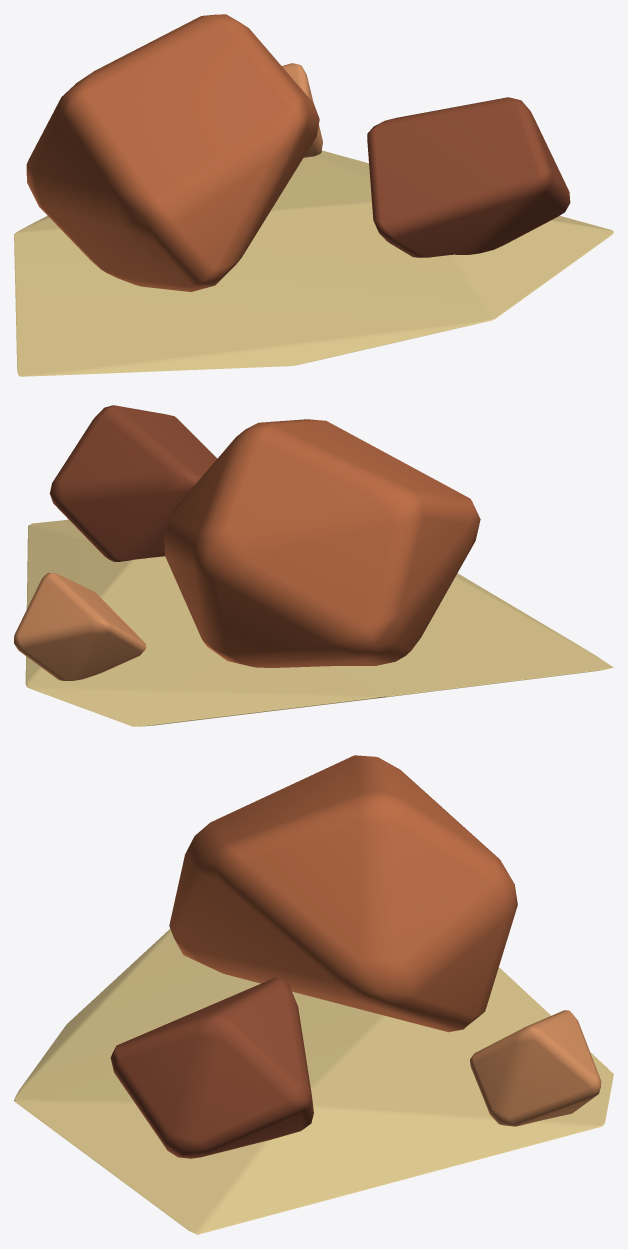
The model's file is rocher_desert_3.glb.
3 renders of one model, top to bottom at view 1: azimuth 30°, elevation 25°; view 2: azimuth 150°, elevation 25°; view 3: azimuth 270°, elevation 25°, orthographic. The views are drawn at different scales.
Parts seen in each view (by area): view 1: roche_sable.002, roche_gres.006, roche_gres_sombre.006, roche_gres_clair.006; view 2: roche_gres.006, roche_sable.002, roche_gres_sombre.006, roche_gres_clair.006; view 3: roche_sable.002, roche_gres.006, roche_gres_sombre.006, roche_gres_clair.006.
Part boxes in pixels (left/top/right/bottom): roche_sable.002: left=14, top=150, right=613, bottom=376; roche_gres.006: left=26, top=14, right=319, bottom=291; roche_gres_sombre.006: left=367, top=97, right=570, bottom=257; roche_gres_clair.006: left=282, top=63, right=322, bottom=157; roche_gres.006: left=164, top=419, right=480, bottom=667; roche_sable.002: left=25, top=519, right=613, bottom=726; roche_gres_sombre.006: left=49, top=405, right=217, bottom=561; roche_gres_clair.006: left=14, top=573, right=146, bottom=680; roche_sable.002: left=14, top=929, right=613, bottom=1234; roche_gres.006: left=169, top=755, right=517, bottom=1032; roche_gres_sombre.006: left=110, top=977, right=313, bottom=1158; roche_gres_clair.006: left=470, top=1010, right=601, bottom=1126.
Bounding box in the file's own units: 0.9393 × 0.354 × 0.7246.
